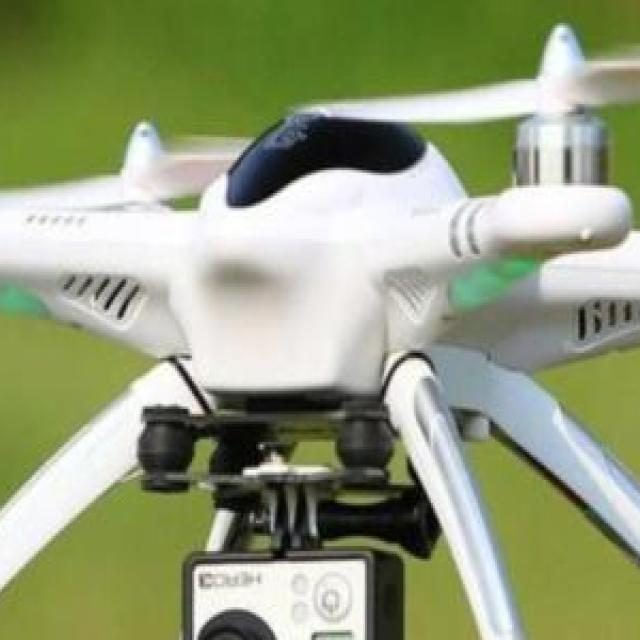drone: (0, 12, 640, 526)
